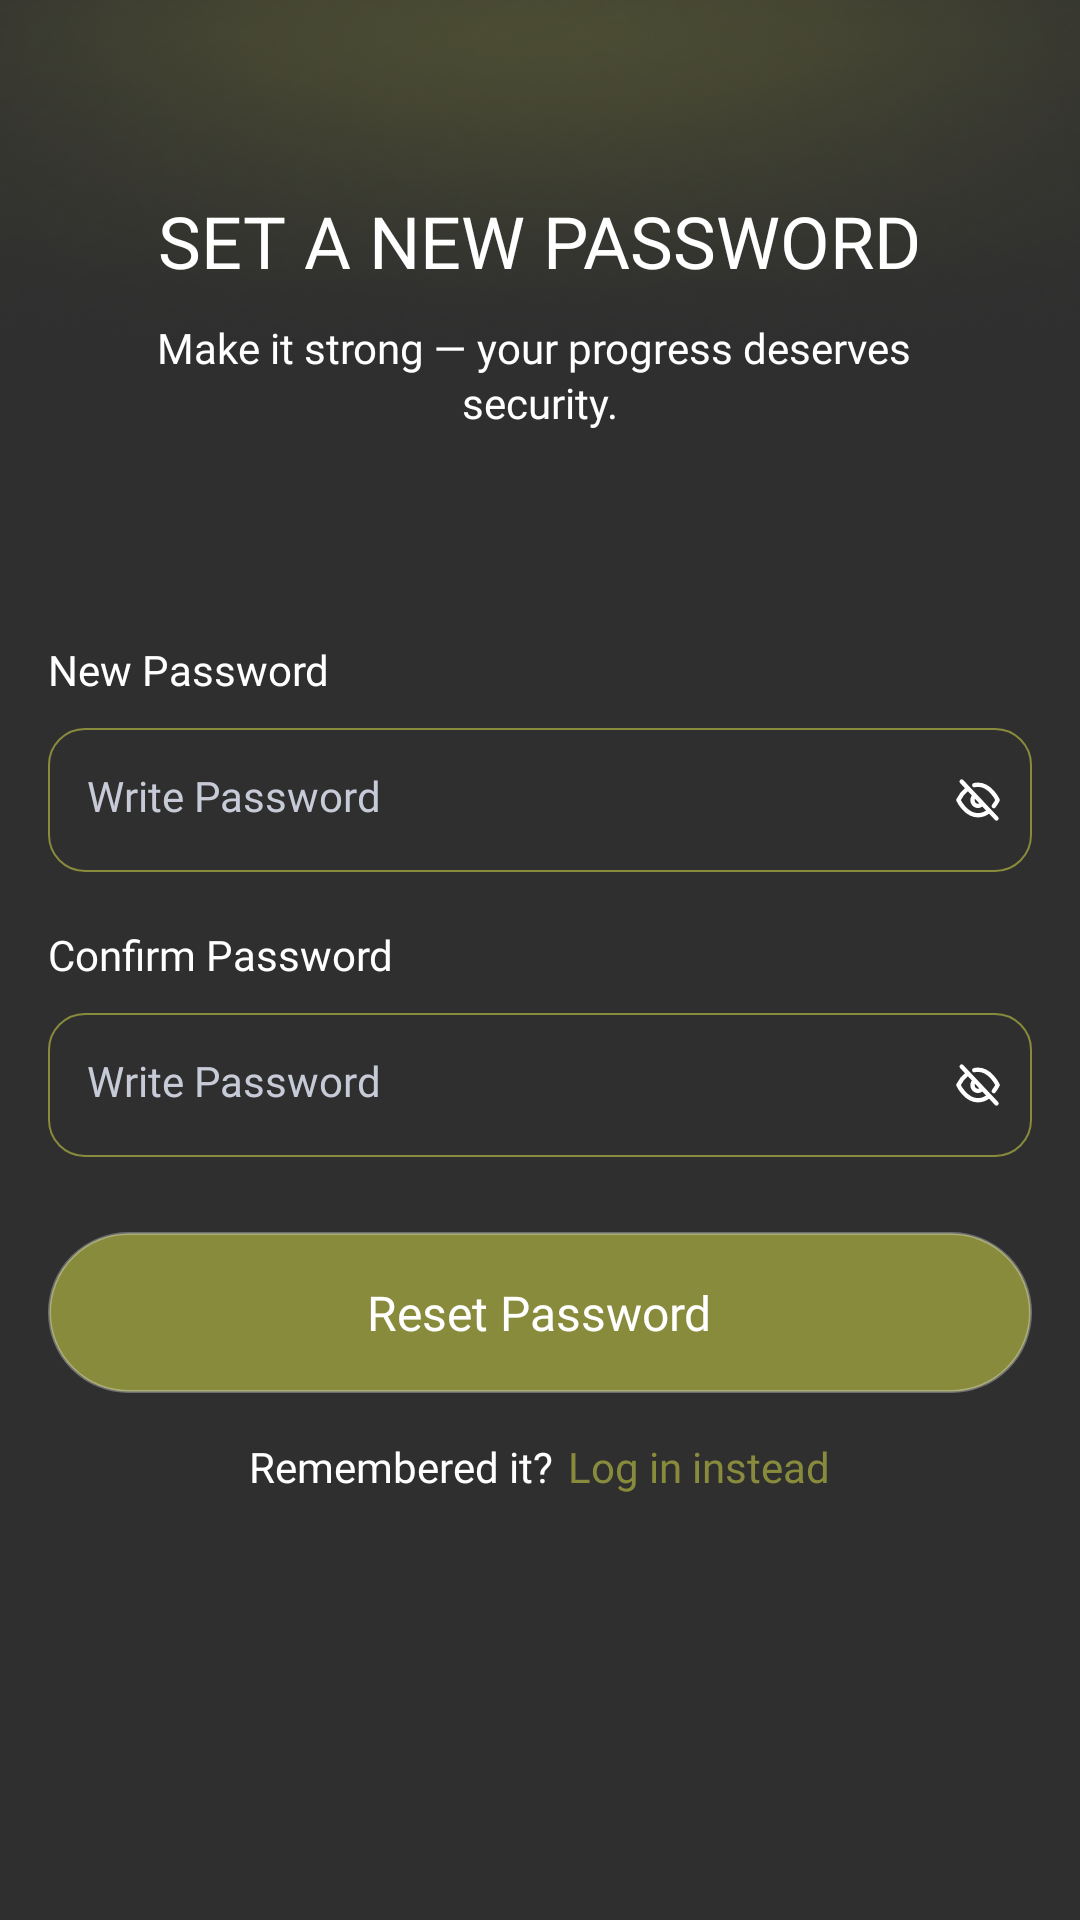

Locate icon controls on the screen. Image size 1080 x 1920, boxes as (x1, y1, x2, y2).
eye off: (956, 779, 1000, 821), (956, 1064, 1000, 1106)
